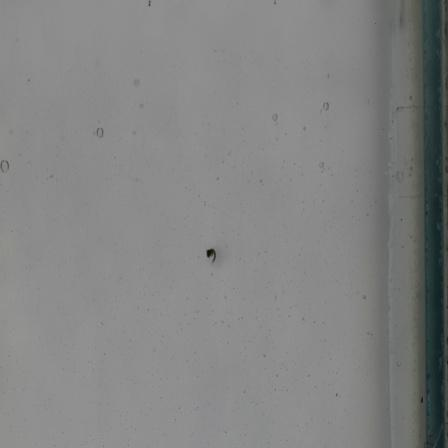Jentik-Nyamuk: (202, 244, 220, 267)
